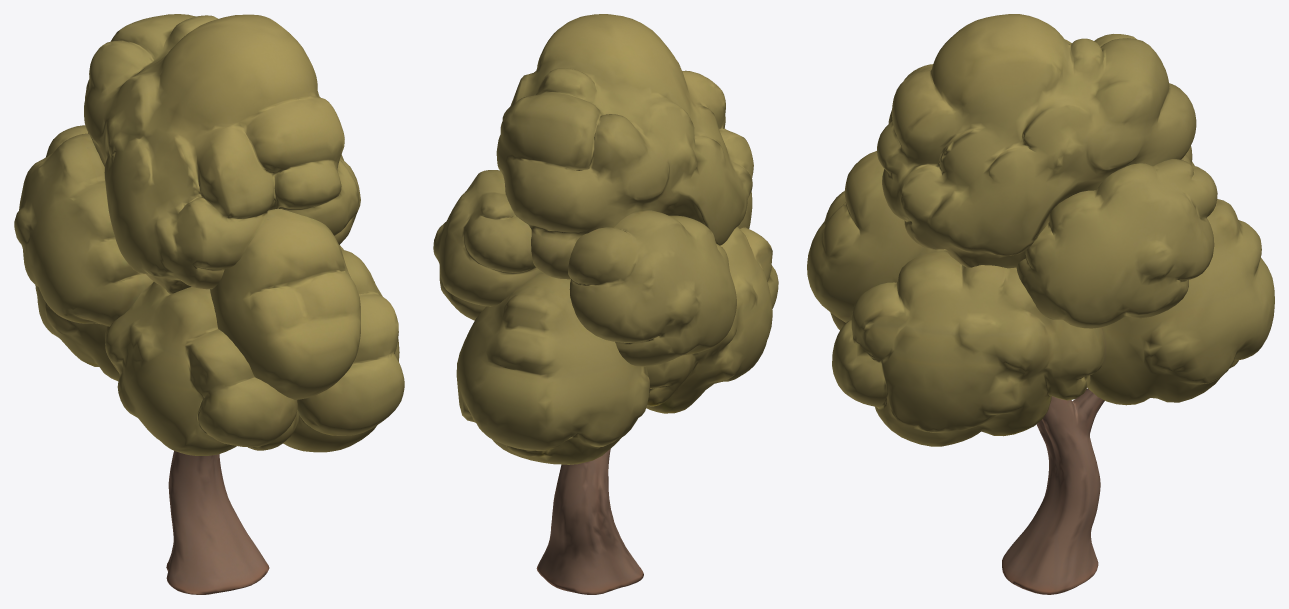
The picture shows the model from 3 angles, left to right: view 1: azimuth 30°, elevation 25°; view 2: azimuth 150°, elevation 25°; view 3: azimuth 270°, elevation 25°; orthographic projection. The views are drawn at different scales.
Visible parts, largest first — view 1: tripo_node_9de8906b; view 2: tripo_node_9de8906b; view 3: tripo_node_9de8906b.
Boxes of the visible parts, x1=… form: tripo_node_9de8906b: x1=14, y1=14, x2=404, y2=594; tripo_node_9de8906b: x1=433, y1=14, x2=778, y2=594; tripo_node_9de8906b: x1=807, y1=14, x2=1274, y2=594.
Bounding box in the file's own units: 0.5161 × 0.9995 × 0.7681.
Materials: 1 (1 with a texture image).
